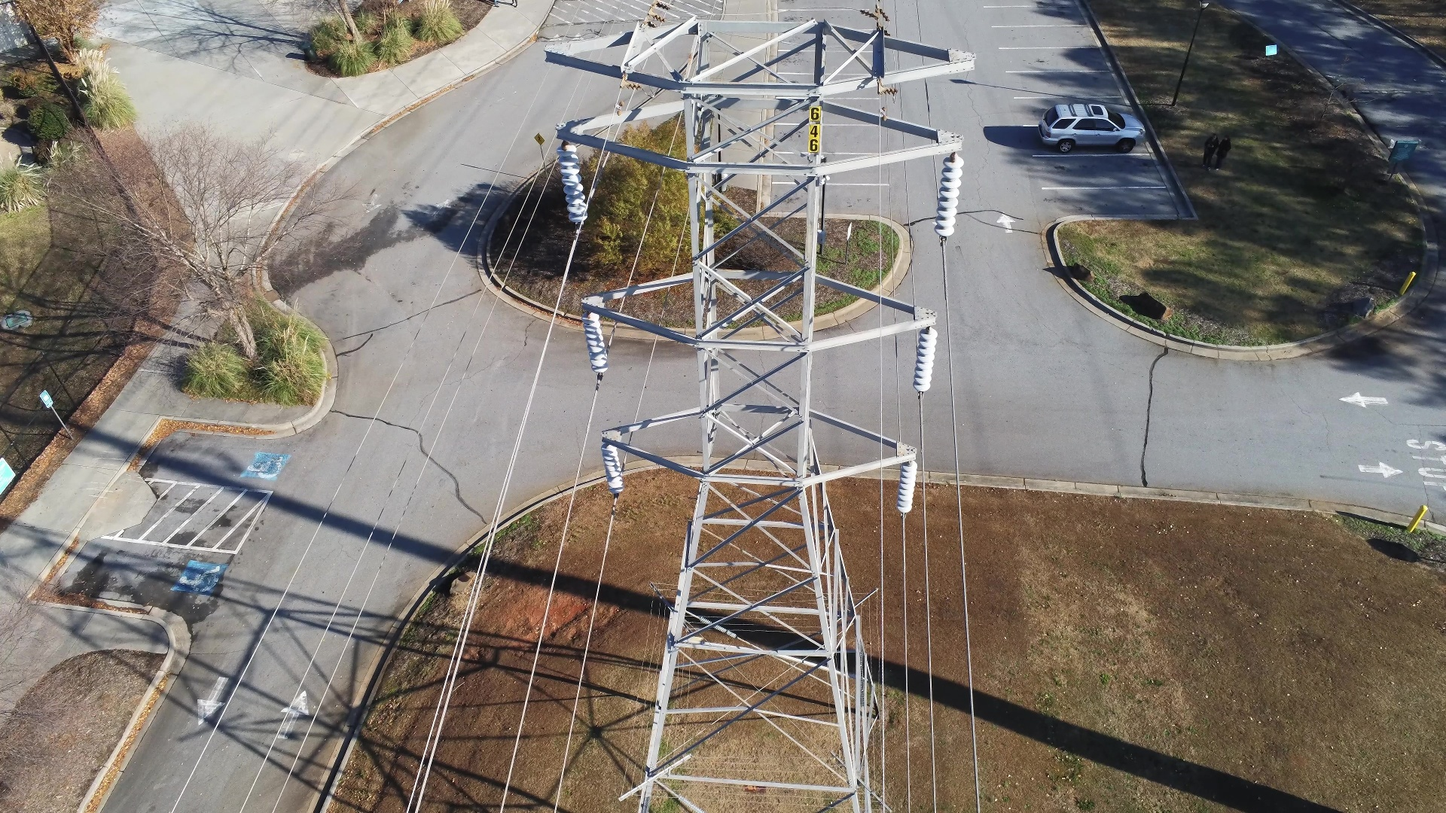insulator: (932, 154, 965, 239), (555, 143, 589, 224), (581, 310, 609, 375), (911, 327, 938, 393), (600, 442, 625, 495), (895, 460, 919, 514)
